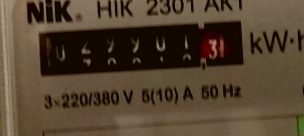0: (151, 28, 167, 53), (50, 39, 67, 62)
1: (178, 26, 191, 51)
2: (76, 33, 92, 56)
3: (203, 37, 220, 60)
9: (127, 31, 140, 55), (102, 32, 115, 53)
screen: (28, 12, 253, 86)
